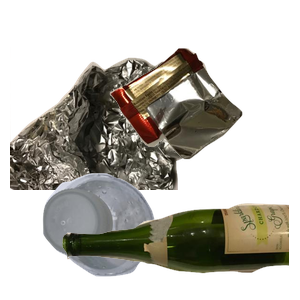glass: (60, 201, 300, 300)
metal: (10, 47, 216, 227)
plastic: (40, 170, 187, 300)
trash: (107, 46, 300, 198)
